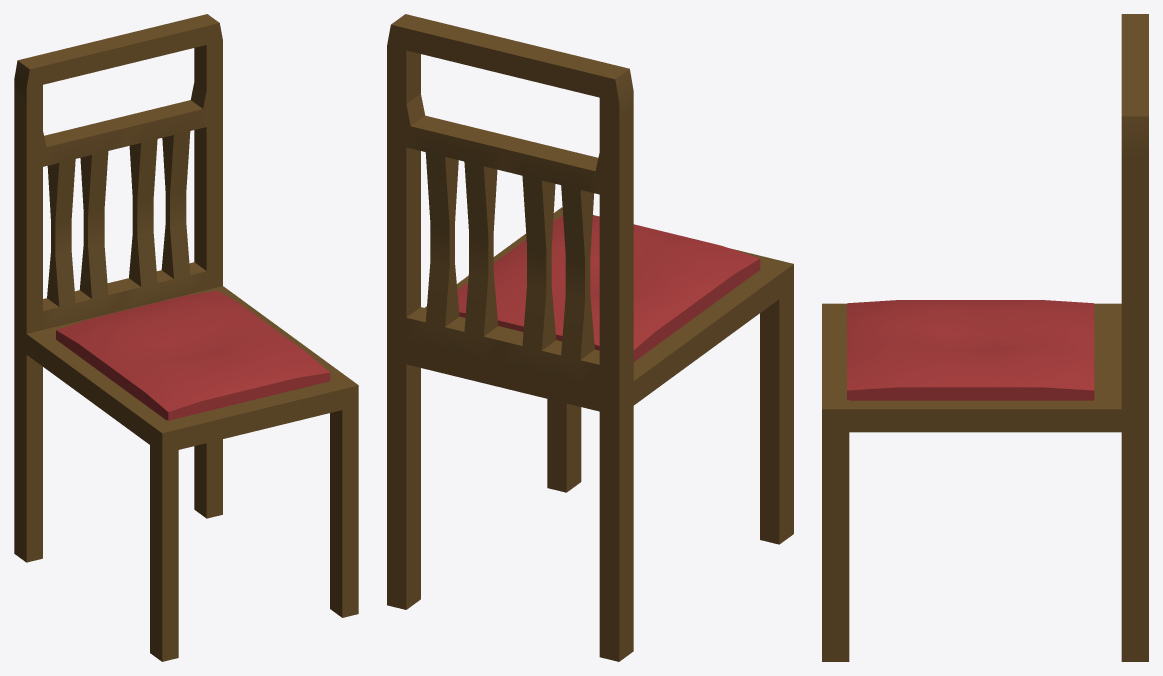
File: Chair.fbx
The picture shows the model from 3 angles, left to right: view 1: azimuth 30°, elevation 25°; view 2: azimuth 150°, elevation 25°; view 3: azimuth 270°, elevation 25°; orthographic projection. The views are drawn at different scales.
Visible parts, largest first — view 1: pCube4; view 2: pCube4; view 3: pCube4.
Part boxes in pixels (x1,y1,x2,y2): pCube4: (14, 14, 358, 661); pCube4: (387, 14, 793, 661); pCube4: (822, 14, 1148, 661).
Bounding box in the file's own units: 0.1367 × 0.3272 × 0.1782.
